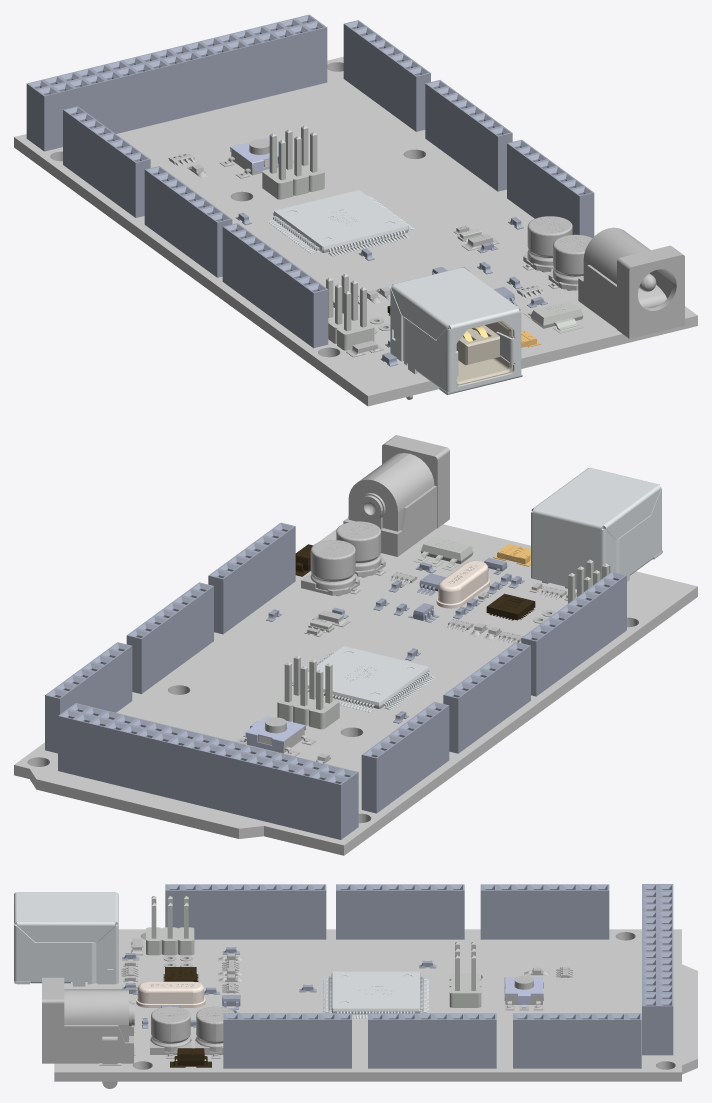
File: robot_complet.glb
3 renders of one model, top to bottom at view 1: azimuth 30°, elevation 25°; view 2: azimuth 150°, elevation 25°; view 3: azimuth 270°, elevation 25°, orthographic. The views are drawn at different scales.
Visible parts, largest first — view 1: empty_2, empty_143, empty_5, empty_12, empty_35, empty_144, empty_120, empty_121, empty_34, empty_32, empty_33, empty_6 (+9 smaller); view 2: empty_2, empty_143, empty_5, empty_12, empty_35, empty_121, empty_33, empty_32, empty_34, empty_144, empty_120, empty_14 (+9 smaller); view 3: empty_2, empty_5, empty_35, empty_121, empty_12, empty_32, empty_33, empty_34, empty_120, empty_143, empty_144, empty_15 (+10 smaller).
Part boxes in pixels (<box>): empty_2: <box>14,56,697,406</box>; empty_143: <box>26,14,327,151</box>; empty_5: <box>390,267,522,399</box>; empty_12: <box>578,227,684,338</box>; empty_35: <box>222,223,328,348</box>; empty_144: <box>267,190,414,256</box>; empty_120: <box>343,20,430,131</box>; empty_121: <box>63,106,150,217</box>; empty_34: <box>425,80,512,191</box>; empty_32: <box>144,166,232,277</box>; empty_33: <box>507,139,594,237</box>; empty_6: <box>447,320,513,385</box>; empty_2: <box>14,524,697,855</box>; empty_143: <box>58,703,358,839</box>; empty_5: <box>531,467,662,589</box>; empty_12: <box>343,435,449,556</box>; empty_35: <box>521,571,626,696</box>; empty_121: <box>361,701,449,813</box>; empty_33: <box>208,522,295,634</box>; empty_32: <box>443,642,530,753</box>; empty_34: <box>126,582,213,693</box>; empty_144: <box>292,646,435,712</box>; empty_120: <box>45,642,132,753</box>; empty_14: <box>310,540,355,590</box>; empty_2: <box>54,929,697,1081</box>; empty_5: <box>14,892,118,986</box>; empty_35: <box>165,884,326,939</box>; empty_121: <box>480,884,609,939</box>; empty_12: <box>42,977,135,1088</box>; empty_32: <box>336,884,464,939</box>; empty_33: <box>223,1013,351,1068</box>; empty_34: <box>368,1013,496,1068</box>; empty_120: <box>513,1013,641,1068</box>; empty_143: <box>642,884,673,1055</box>; empty_144: <box>323,971,429,1018</box>; empty_15: <box>136,981,205,1007</box>.
Bounding box in the file's own units: 53.34 × 15.24 × 108.
